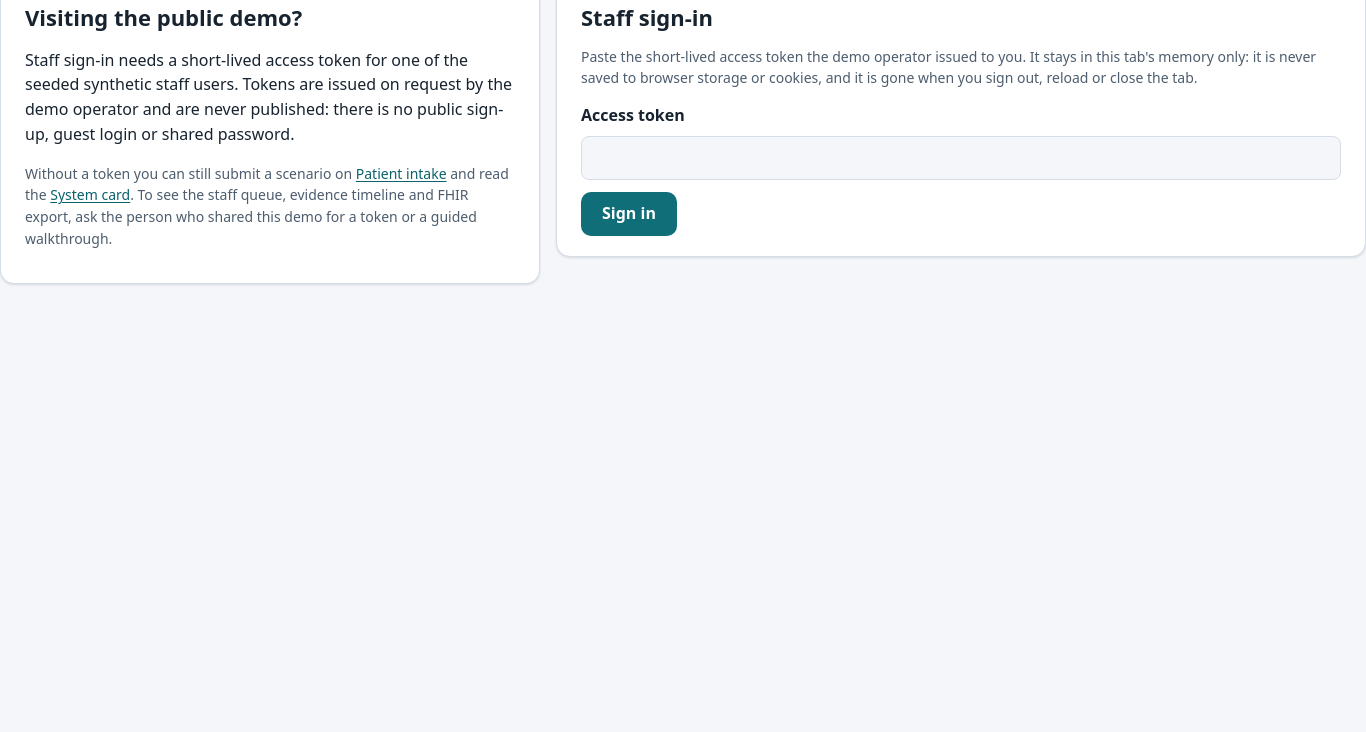
Test: StaffReview detail and transitions › opens an intake and renders summary, report, safety and escalation reason
This screenshot has width=1366, height=732.
Type "v1.payload.signature" into the password field labelled "Access token" at (961, 158), box [581,136,1341,180]
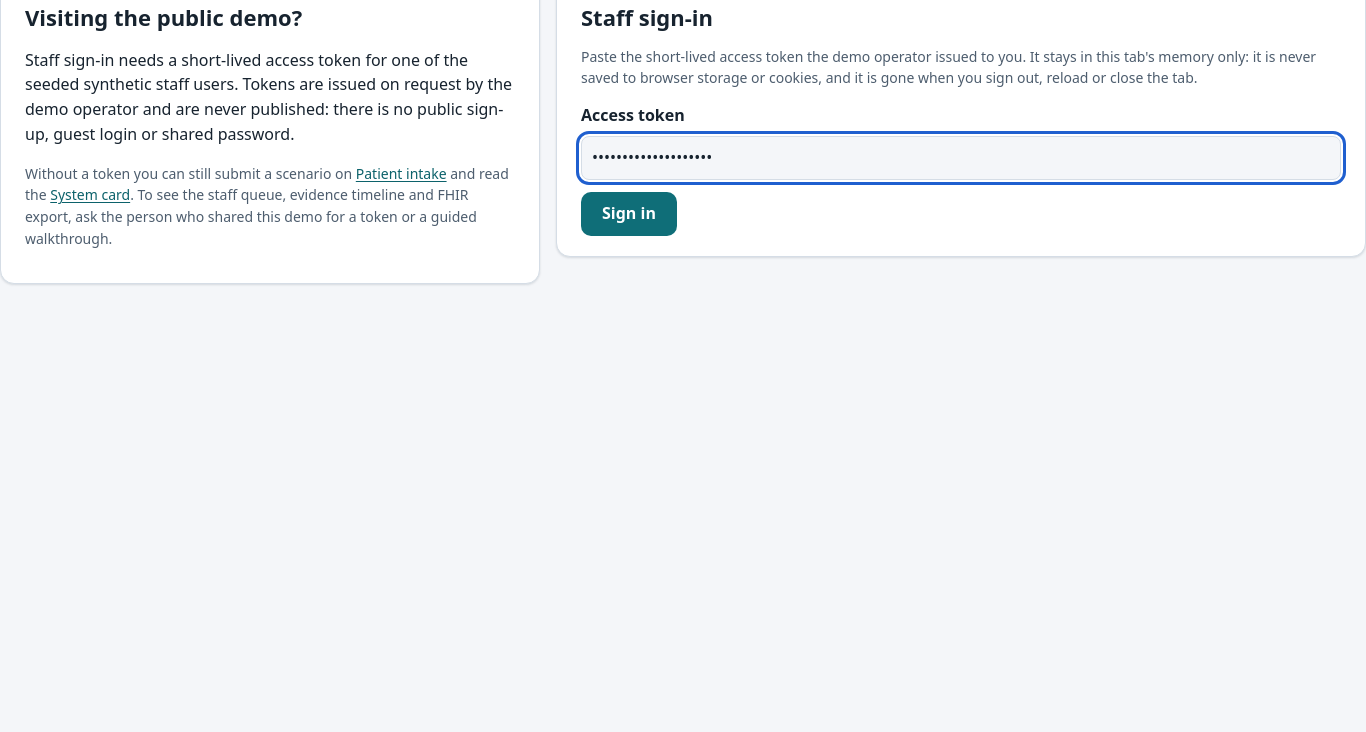
Click the button "Sign in" at (629, 214), box [581,192,677,236]
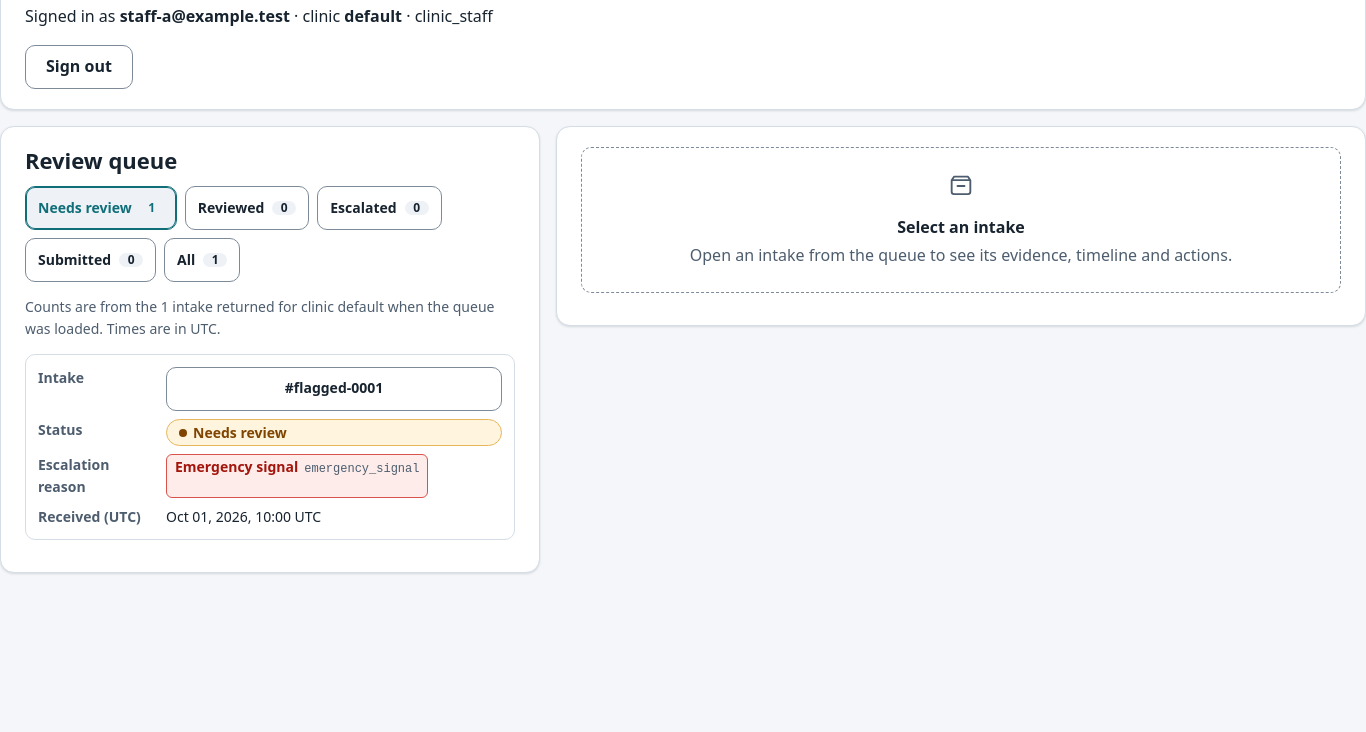
Click the button with aria-label "Open " at (334, 389), box [166,367,502,411]
(page scrolled)
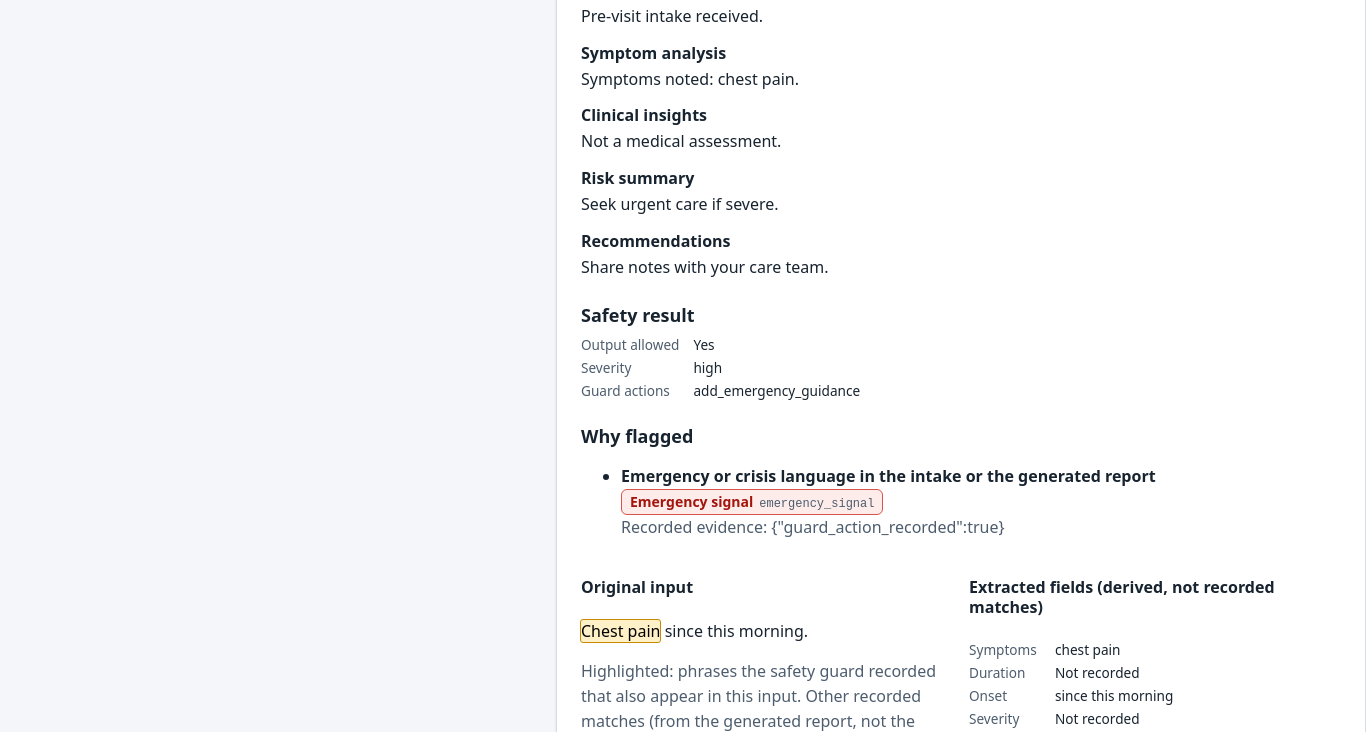
Check: the text "Pre-visit intake received." is shown, box [581,5,763,27]
Check: the text "Seek urgent care if severe." is shown, box [581,193,779,215]
Check: the text "add_emergency_guidance" is shown, box [693,381,860,400]
